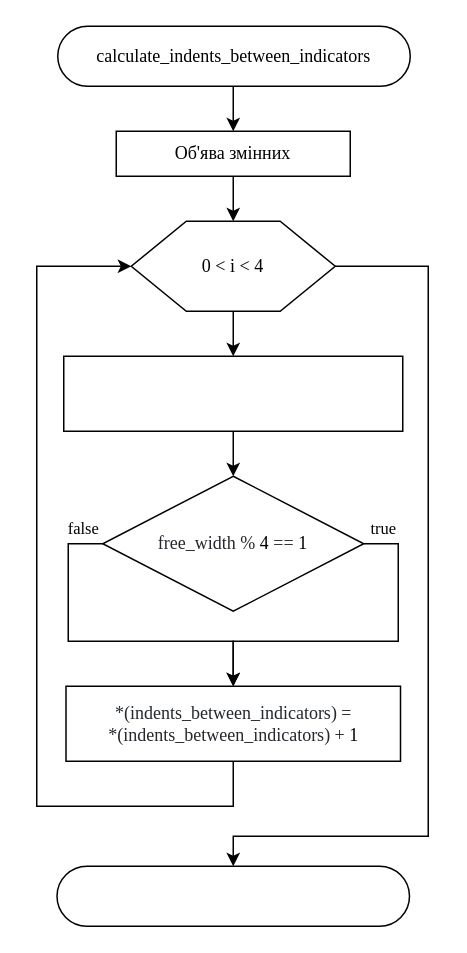
This 467x953 diagram has some shape labels left out. The centre of each missing label's shape, as x and y in pixels:
*(indents_between_indicators + i) = free_width / 4 ;: point (232, 393)
Кінець: point (233, 895)
